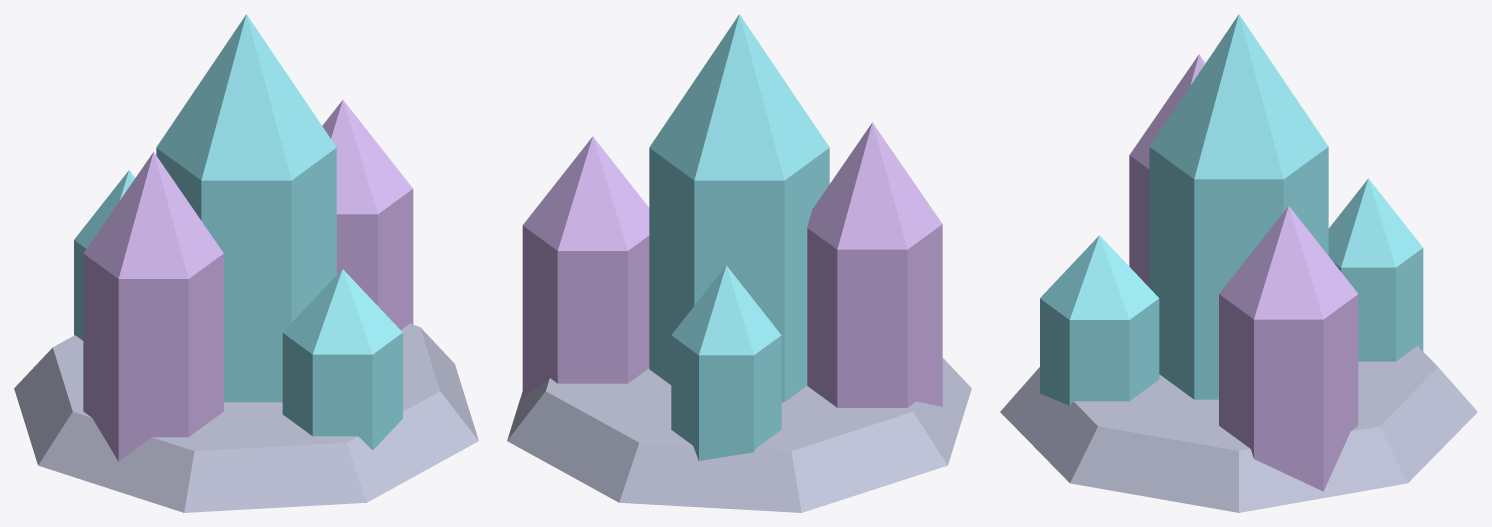
File: CF_Crystals.fbx
The picture shows the model from 3 angles, left to right: view 1: azimuth 30°, elevation 25°; view 2: azimuth 150°, elevation 25°; view 3: azimuth 270°, elevation 25°; orthographic projection.
Visible parts, largest first — view 1: CF_Crystals_Crystal, CF_Crystals_CrystalB, CF_Crystals_Base; view 2: CF_Crystals_Crystal, CF_Crystals_CrystalB, CF_Crystals_Base; view 3: CF_Crystals_Crystal, CF_Crystals_Base, CF_Crystals_CrystalB.
Part boxes in pixels (x1,y1,x2,y2): CF_Crystals_Crystal: [74, 14, 402, 450]; CF_Crystals_CrystalB: [83, 100, 413, 461]; CF_Crystals_Base: [14, 323, 478, 512]; CF_Crystals_Crystal: [649, 14, 829, 460]; CF_Crystals_CrystalB: [522, 122, 942, 407]; CF_Crystals_Base: [507, 358, 971, 512]; CF_Crystals_Crystal: [1040, 14, 1423, 405]; CF_Crystals_Base: [1000, 346, 1477, 512]; CF_Crystals_CrystalB: [1129, 54, 1358, 491].
Size of the model in its own units: 4.8 by 4.41 by 4.8.
